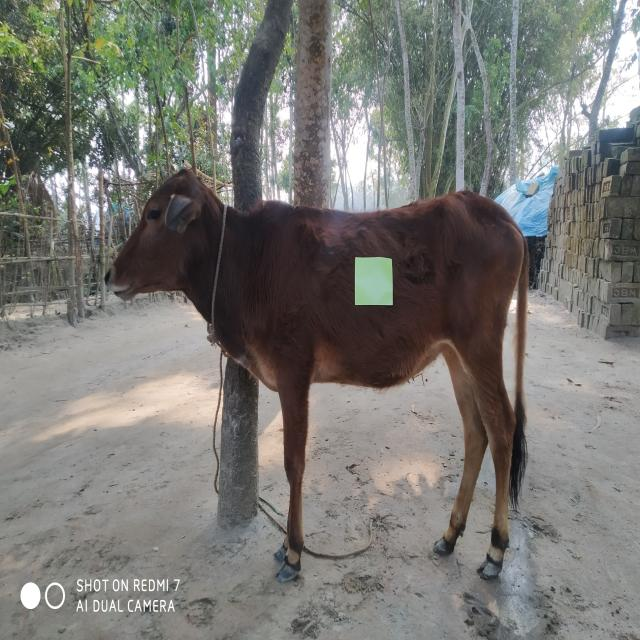badan_sapi: (278, 210, 507, 393)
sapi: (97, 163, 536, 586)
